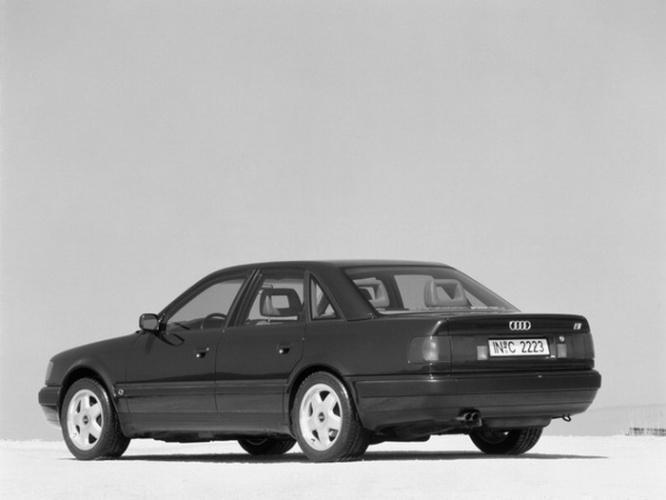car: (35, 259, 609, 466)
